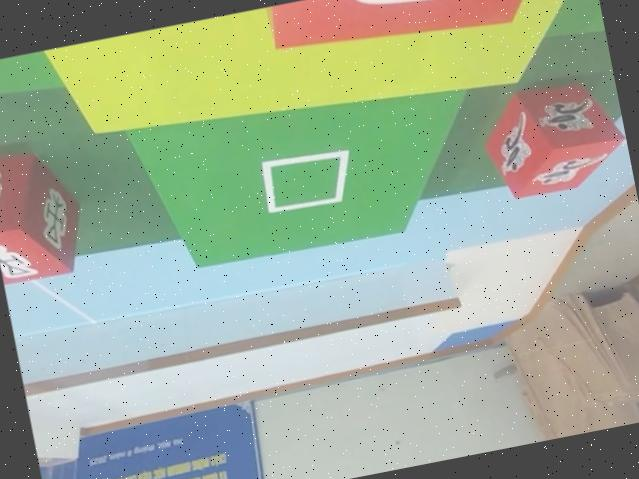R1: (477, 73, 631, 205)
R2 Real: (0, 143, 92, 286)
